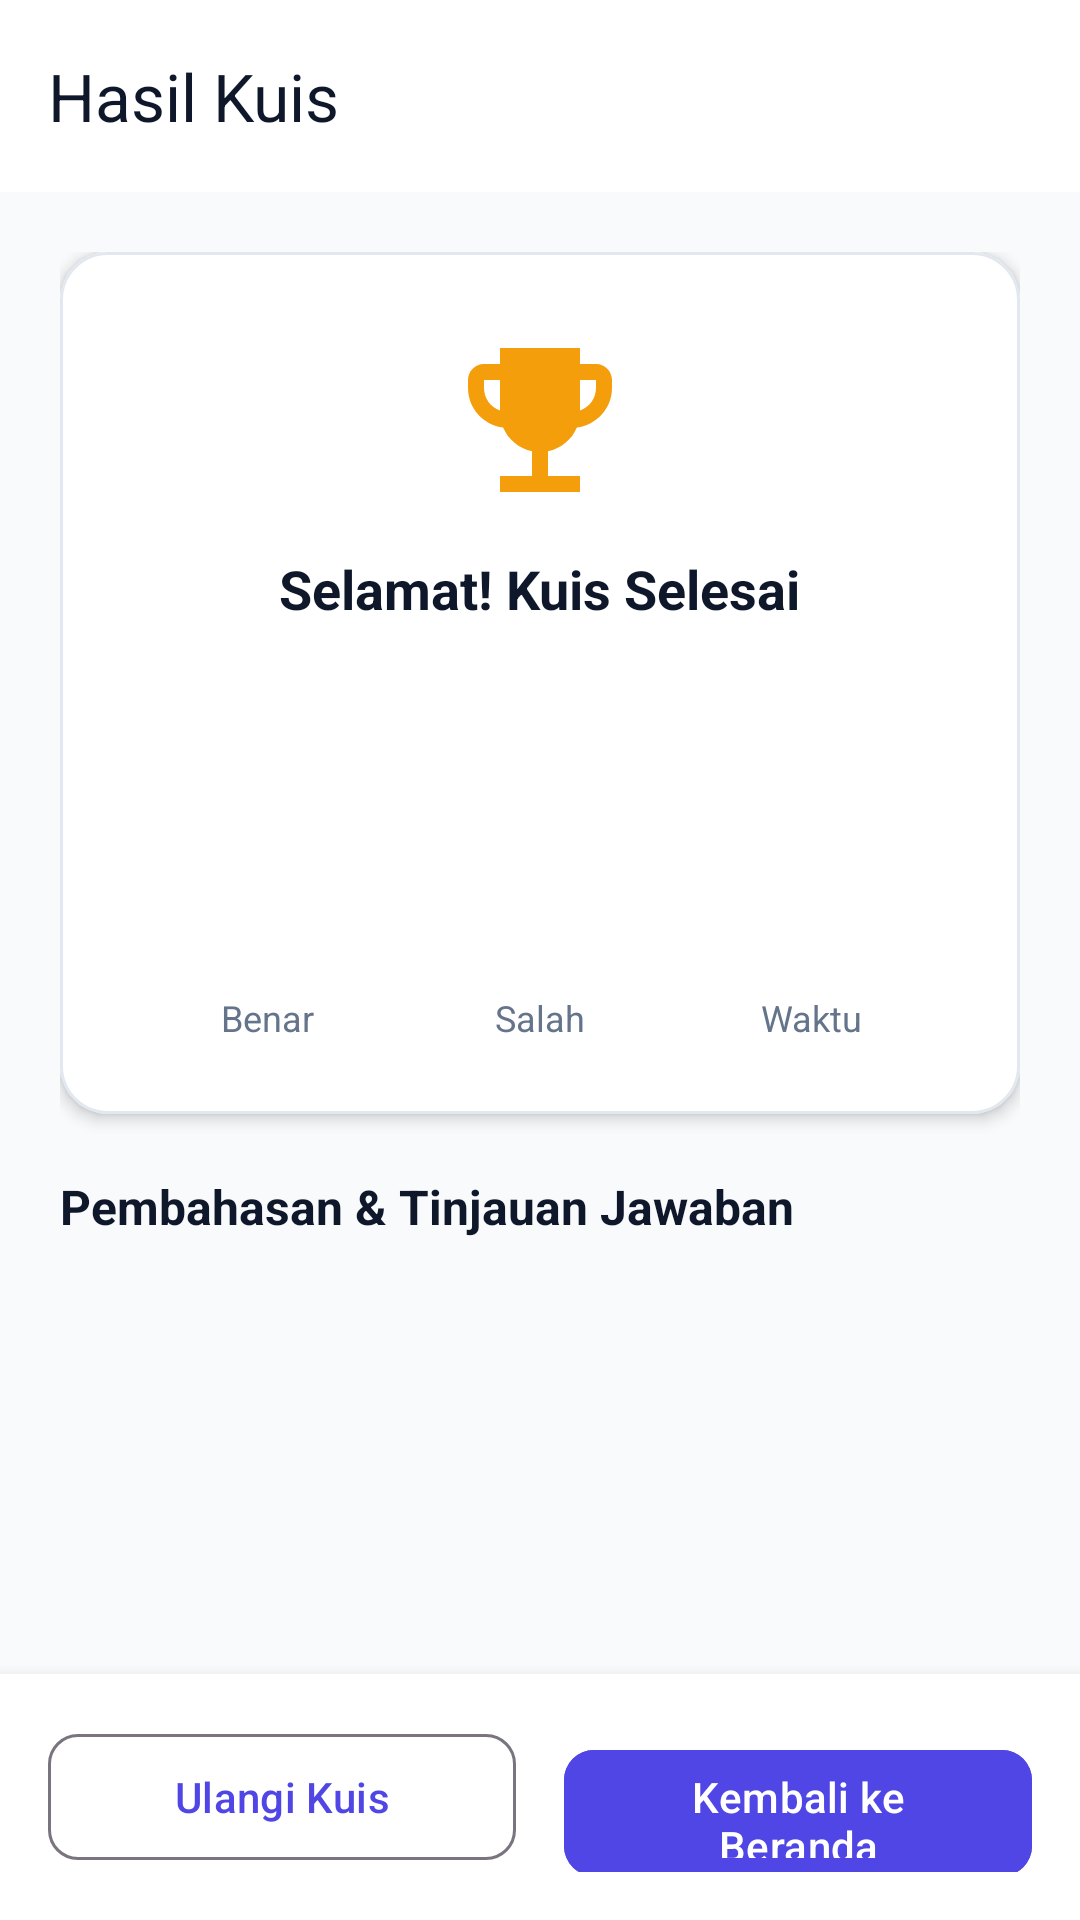

Icon bounding boxes for this 1080px x 1920px phone screenshot, format box=[x1, y1, x2, y2]:
trophy: box=[468, 348, 612, 492]
